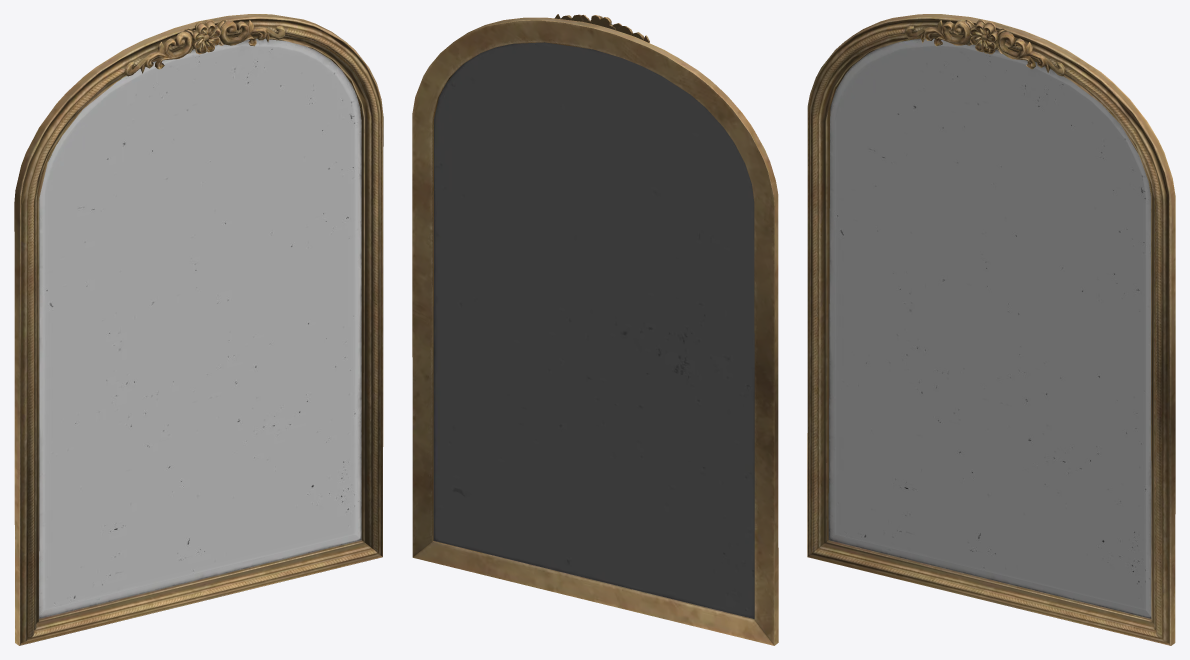
File: ornate_mirror_01.glb
3 renders of one model, left to right at view 1: azimuth 30°, elevation 25°; view 2: azimuth 150°, elevation 25°; view 3: azimuth 330°, elevation 25°, orthographic.
Visible parts, largest first — view 1: ornate_mirror_01; view 2: ornate_mirror_01; view 3: ornate_mirror_01.
Part boxes in pixels (left/top/right/bottom): ornate_mirror_01: left=14, top=14, right=383, bottom=645; ornate_mirror_01: left=412, top=14, right=778, bottom=645; ornate_mirror_01: left=807, top=14, right=1175, bottom=645.
Bounding box in the file's own units: 0.4865 × 0.7437 × 0.026.
1 material, 1 textured.
